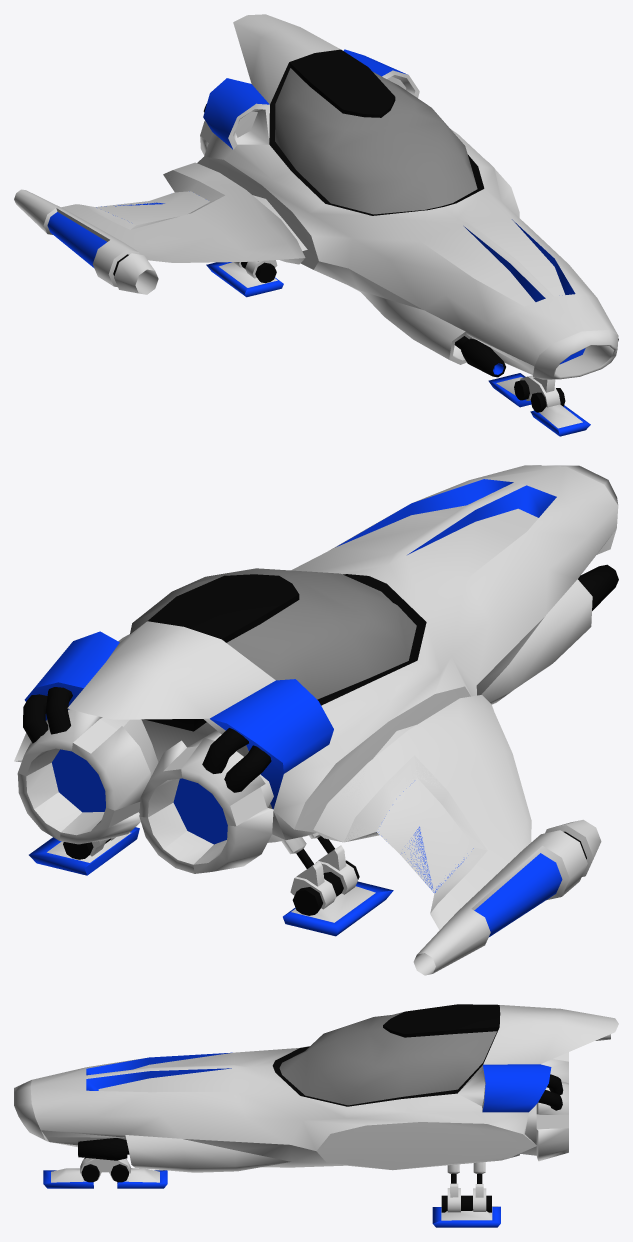
The model's file is SM_Ship.FBX.
3 renders of one model, top to bottom at view 1: azimuth 30°, elevation 25°; view 2: azimuth 150°, elevation 25°; view 3: azimuth 270°, elevation 25°, orthographic. The views are drawn at different scales.
Parts seen in each view (by area): view 1: SM_Ship; view 2: SM_Ship; view 3: SM_Ship.
Part boxes in pixels (x1,y1,x2,y2): SM_Ship: [14, 14, 618, 436]; SM_Ship: [14, 465, 618, 975]; SM_Ship: [14, 1004, 618, 1227].
Bounding box in the file's own units: 51.36 × 26.61 × 86.3.
